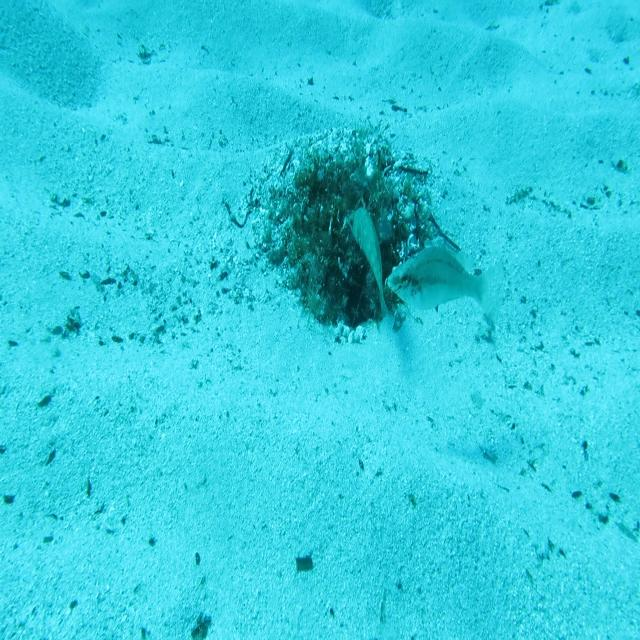FAN: (345, 194, 390, 323)
core_nest: (319, 178, 369, 216)
female: (387, 240, 506, 334)
nest: (247, 117, 448, 355)
vegetation: (295, 554, 316, 575)
